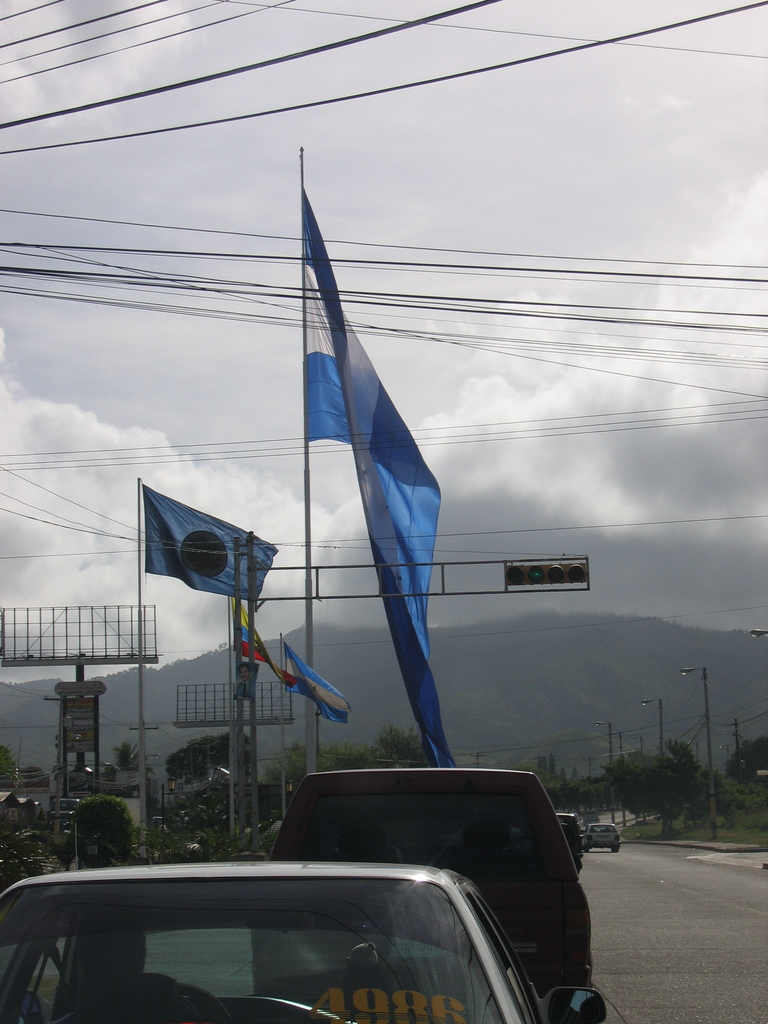Car: (0, 855, 603, 1023), (269, 762, 593, 996), (551, 808, 584, 861), (589, 816, 620, 849)
